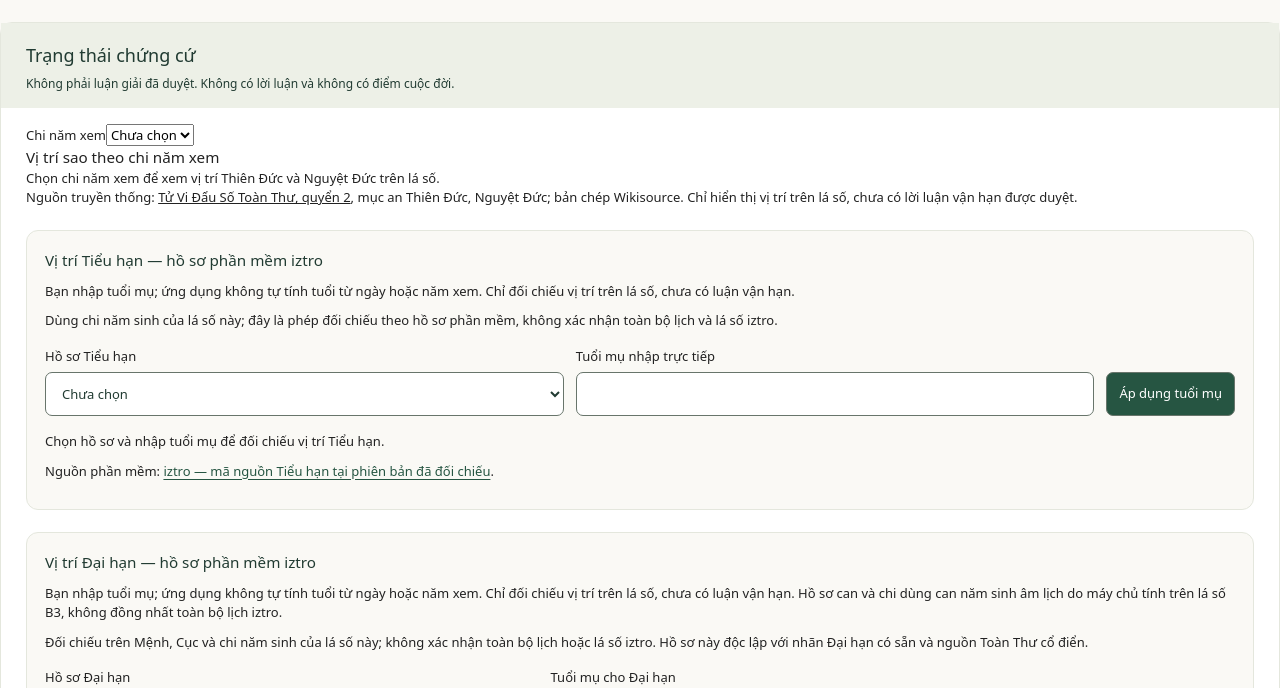
StructuredAnalysis › shows source-scoped annual branches and palaces, then clears the selected year
Check: the text "Chọn chi năm xem để xem vị trí" is shown, box [26,169,440,187]
Select "Tí" in the dropdown labelled "Chi năm xem" at {"x": 150, "y": 135}, box [106,124,194,146]
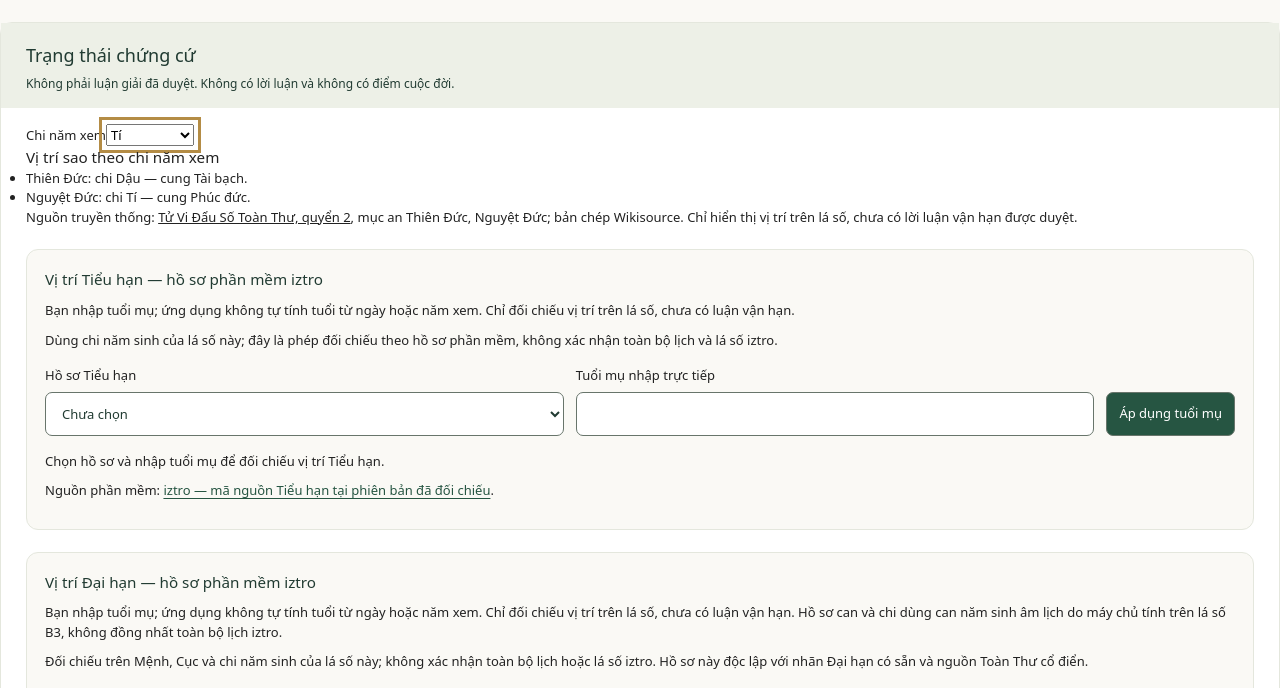
Check: the text "chưa có lời luận vận hạn được duyệt" is shown, box [687,208,1077,226]
Check: the list item "Thiên Đức: chi Dậu — cung Tài bạch." is shown, box [26,169,247,187]
Check: the list item "Nguyệt Đức: chi Tí — cung Phúc đức." is shown, box [26,188,250,206]
Select "Chưa chọn" in the dropdown labelled "Chi năm xem" at {"x": 150, "y": 135}, box [106,124,194,146]
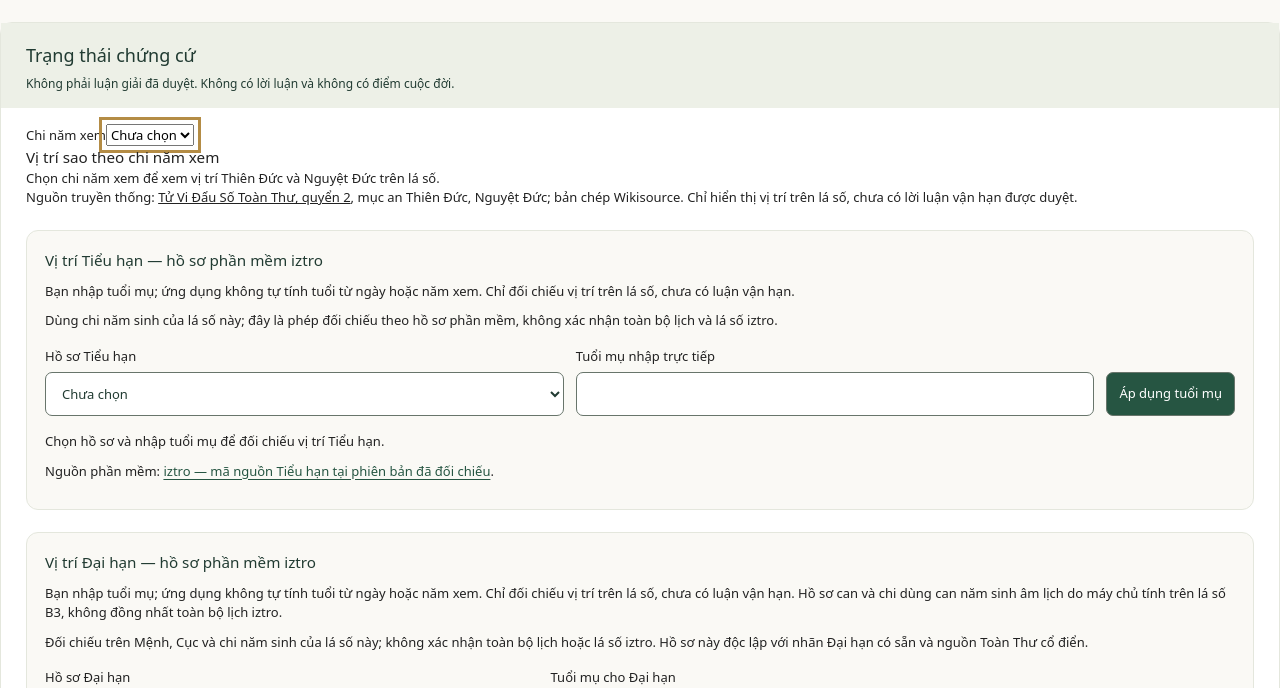
Check: the text "Chọn chi năm xem để xem vị trí" is shown, box [26,169,440,187]
Check: the list item "Thiên Đức: chi Dậu — cung Tài bạch." is gone
